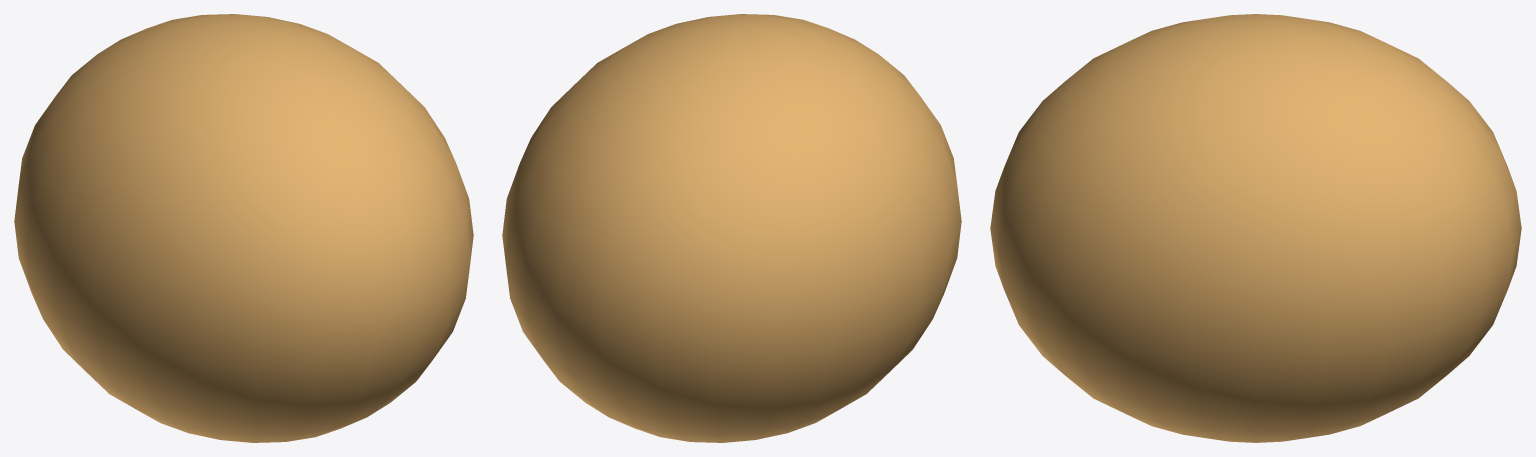
The model's file is nose_dot.glb.
3 renders of one model, left to right at view 1: azimuth 30°, elevation 25°; view 2: azimuth 150°, elevation 25°; view 3: azimuth 270°, elevation 25°, orthographic. The views are drawn at different scales.
Parts seen in each view (by area): view 1: NoseDot.001; view 2: NoseDot.001; view 3: NoseDot.001.
Part boxes in pixels (x1=…): NoseDot.001: x1=14, y1=14, x2=473, y2=442; NoseDot.001: x1=502, y1=14, x2=961, y2=442; NoseDot.001: x1=990, y1=14, x2=1521, y2=442.
Size of the model in its own units: 0.017 by 0.016 by 0.02.
